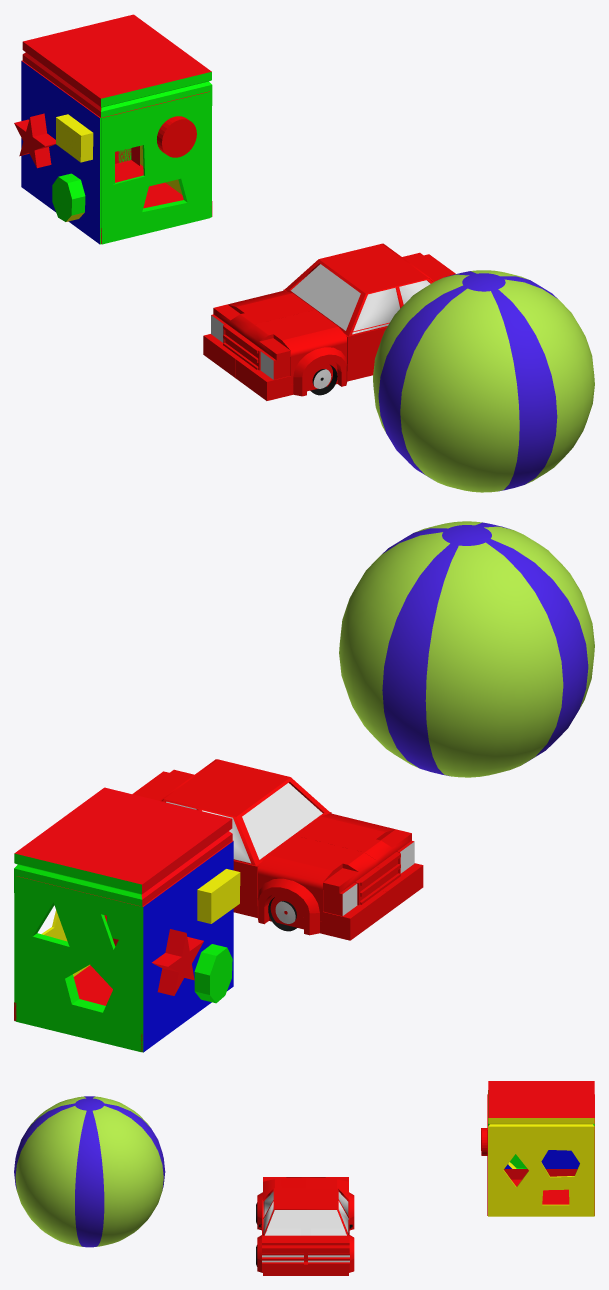
Rendered from propstoyfix.fbx.
The picture shows the model from 3 angles, top to bottom: view 1: azimuth 30°, elevation 25°; view 2: azimuth 150°, elevation 25°; view 3: azimuth 270°, elevation 25°; orthographic projection. The views are drawn at different scales.
Parts seen in each view (by area): view 1: Sphere, Cube.003, toy_car:polySurface15, toy_car:polySurface26, toy_car:polySurface24, Cylinder, toy_car:polySurface20, toy_car:polySurface22, toy_car:polySurface37, toy_car:polySurface14; view 2: Sphere, Cube.003, toy_car:polySurface15, toy_car:polySurface26, toy_car:polySurface37, toy_car:polySurface33, toy_car:polySurface24, toy_car:polySurface28, toy_car:polySurface35, toy_car:polySurface21; view 3: Sphere, Cube.003, toy_car:polySurface15, toy_car:polySurface26, toy_car:polySurface22, toy_car:polySurface35, toy_car:polySurface32, toy_car:polySurface19, toy_car:polySurface21, toy_car:polySurface34.
Part boxes in pixels (box(x1,y1,x2,y2)): Sphere: box(373, 270, 594, 492); Cube.003: box(14, 14, 212, 244); toy_car:polySurface15: box(285, 243, 434, 336); toy_car:polySurface26: box(213, 290, 346, 384); toy_car:polySurface24: box(235, 357, 374, 400); Cylinder: box(157, 116, 196, 157); toy_car:polySurface20: box(293, 347, 347, 396); toy_car:polySurface22: box(345, 327, 386, 371); toy_car:polySurface37: box(203, 334, 239, 377); toy_car:polySurface14: box(260, 350, 290, 379); Sphere: box(339, 521, 594, 777); Cube.003: box(14, 787, 240, 1052); toy_car:polySurface15: box(160, 759, 329, 865); toy_car:polySurface26: box(258, 813, 411, 921); toy_car:polySurface37: box(233, 890, 386, 940); toy_car:polySurface33: box(257, 878, 319, 935); toy_car:polySurface24: box(381, 863, 423, 913); toy_car:polySurface28: box(323, 882, 357, 916); toy_car:polySurface35: box(233, 860, 260, 906); toy_car:polySurface21: box(138, 769, 194, 800); Sphere: box(14, 1096, 165, 1247); Cube.003: box(487, 1081, 594, 1216); toy_car:polySurface15: box(262, 1188, 349, 1235); toy_car:polySurface26: box(263, 1177, 348, 1199); toy_car:polySurface22: box(262, 1200, 305, 1271); toy_car:polySurface35: box(306, 1200, 349, 1271); toy_car:polySurface32: box(308, 1250, 349, 1264); toy_car:polySurface19: box(262, 1253, 303, 1264); toy_car:polySurface21: box(262, 1235, 305, 1245); toy_car:polySurface34: box(306, 1235, 349, 1245).
Bounding box in the file's own units: 251 × 200 × 768.
